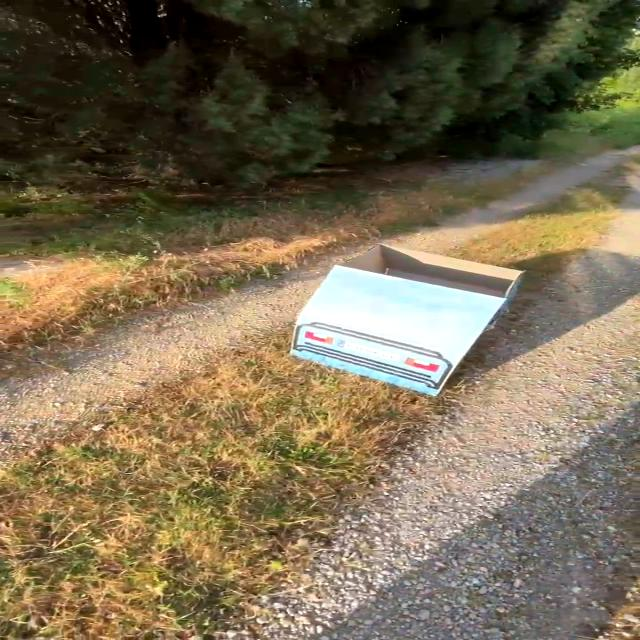blue_car: (263, 229, 546, 419)
